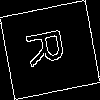R: (25, 24, 74, 68)
